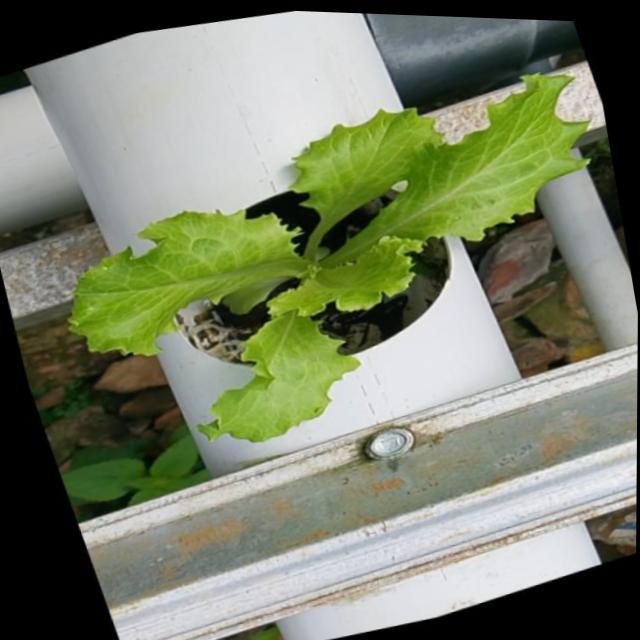Baby: (71, 70, 591, 440)
